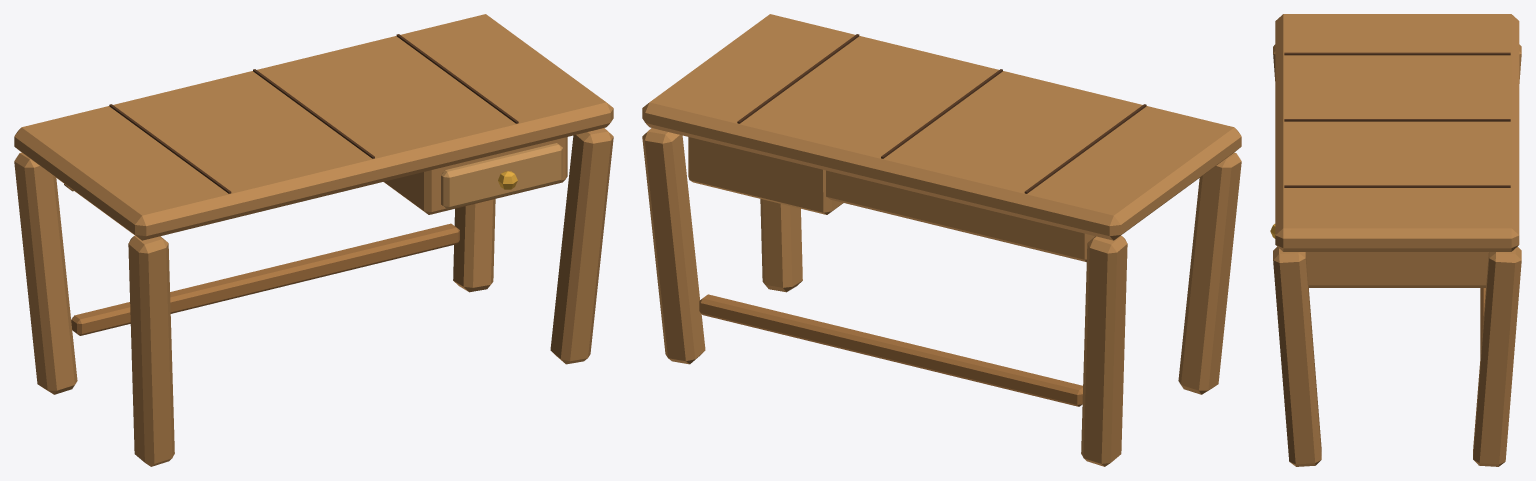
Rendered from writing_desk.glb.
3 views of the same model, side by side, from view 1: azimuth 30°, elevation 25°; view 2: azimuth 150°, elevation 25°; view 3: azimuth 270°, elevation 25° (orthographic). The views are drawn at different scales.
Visible parts, largest first — view 1: writing_desk, part_drawer; view 2: writing_desk; view 3: writing_desk.
Part boxes in pixels (box(x1,y1,x2,y2)): writing_desk: box(14, 14, 613, 466); part_drawer: box(441, 143, 562, 209); writing_desk: box(642, 14, 1241, 466); writing_desk: box(1273, 14, 1521, 466).
Size of the model in its own units: 1.2 by 0.6271 by 0.5774.
